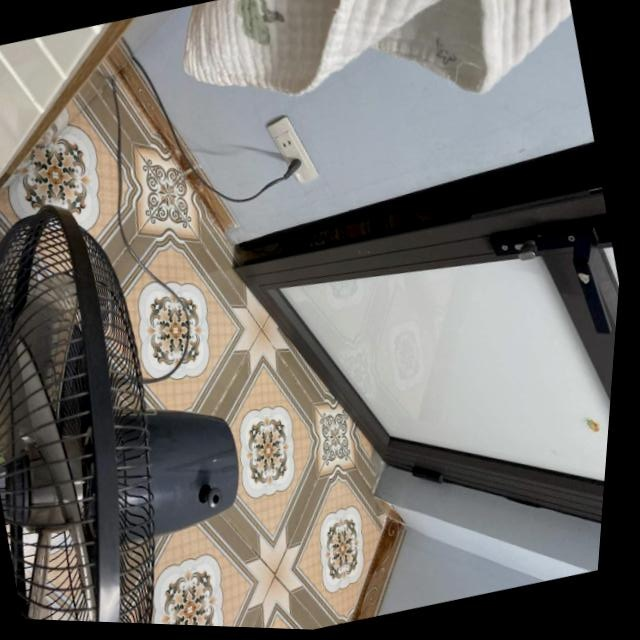outlet: (261, 108, 327, 190)
